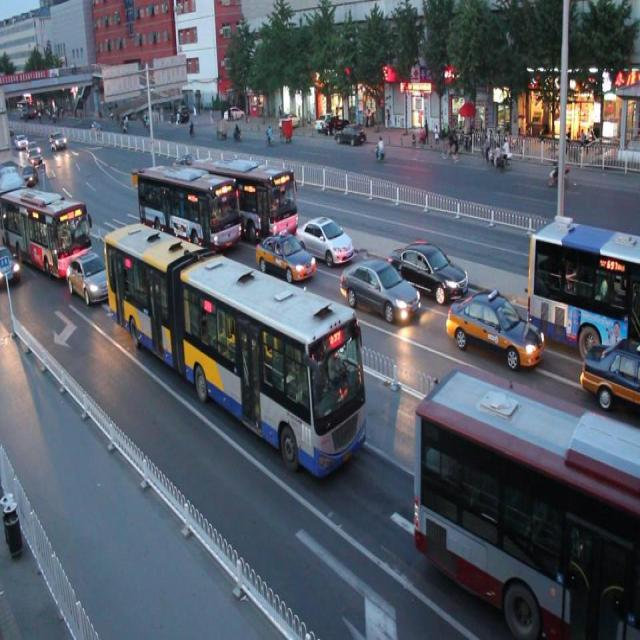car: (444, 292, 546, 368), (386, 237, 467, 305), (339, 257, 419, 323), (578, 335, 640, 401), (255, 229, 315, 284), (296, 212, 353, 268), (67, 250, 112, 303)
van: (105, 220, 367, 478), (414, 367, 640, 639), (528, 218, 640, 352), (137, 162, 241, 253), (193, 153, 296, 237), (0, 184, 90, 276)
